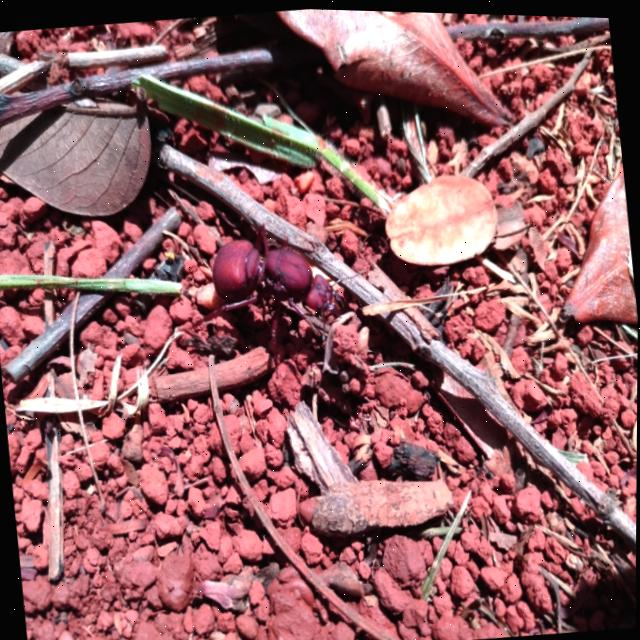Alive-Female-Dealate: (180, 209, 379, 388)
